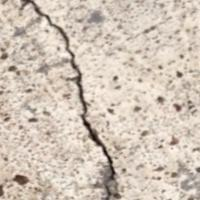crack: (28, 0, 131, 199)
